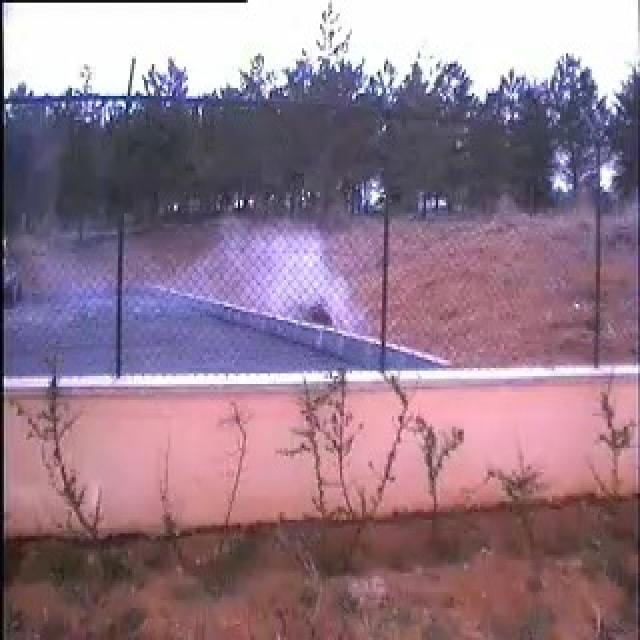smoke: (55, 221, 384, 366)
